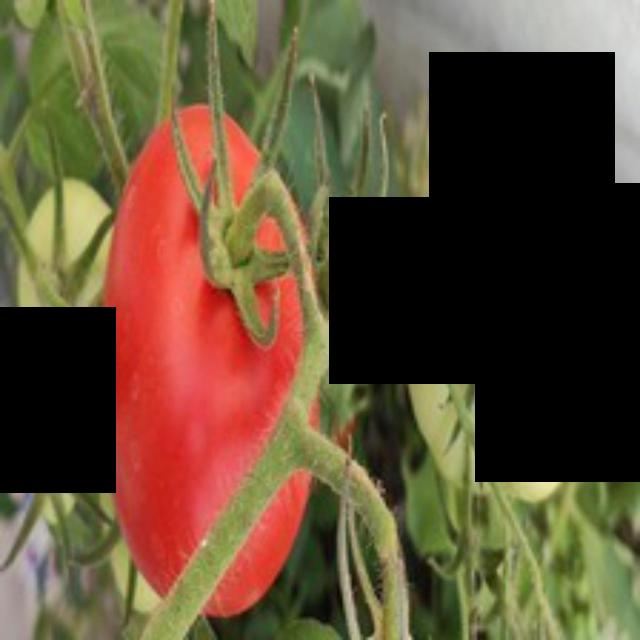tomato: (100, 95, 314, 607)
